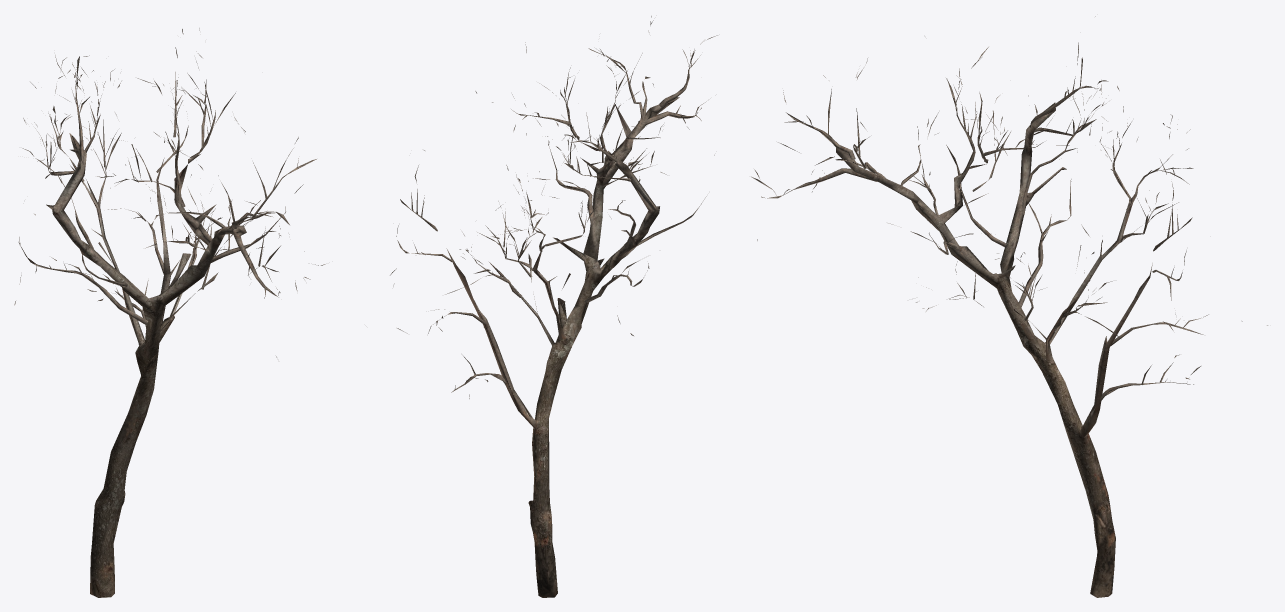
File: tree-small-02-leafless.glb
3 renders of one model, left to right at view 1: azimuth 30°, elevation 25°; view 2: azimuth 150°, elevation 25°; view 3: azimuth 270°, elevation 25°, orthographic. The views are drawn at different scales.
Visible parts, largest first — view 1: tree_small_02_LOD0; view 2: tree_small_02_LOD0; view 3: tree_small_02_LOD0.
Part boxes in pixels (bbox=[...]): tree_small_02_LOD0: bbox=[14, 28, 325, 597]; tree_small_02_LOD0: bbox=[390, 16, 717, 597]; tree_small_02_LOD0: bbox=[751, 16, 1267, 597].
Size of the model in its own units: 1.91 by 4.35 by 3.74.
2 materials, 2 textured.
